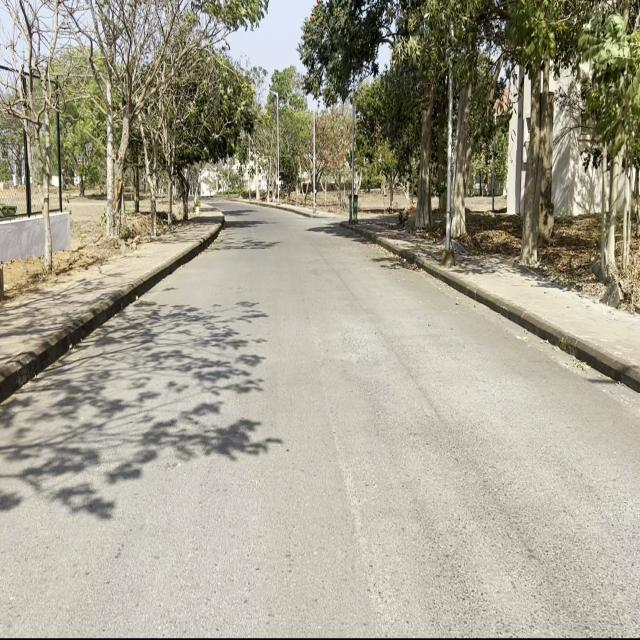Road: (4, 202, 637, 633)
